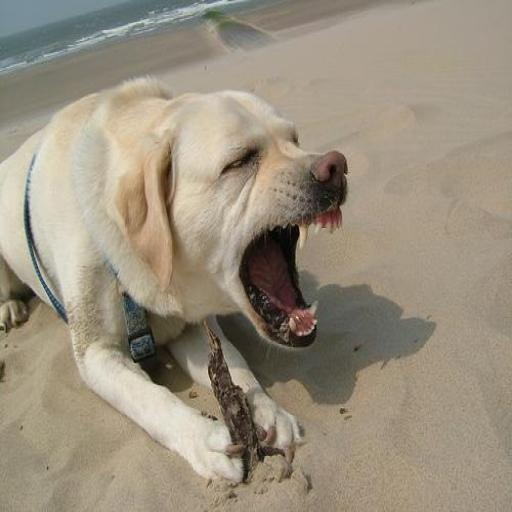dog_face: (140, 94, 352, 365)
